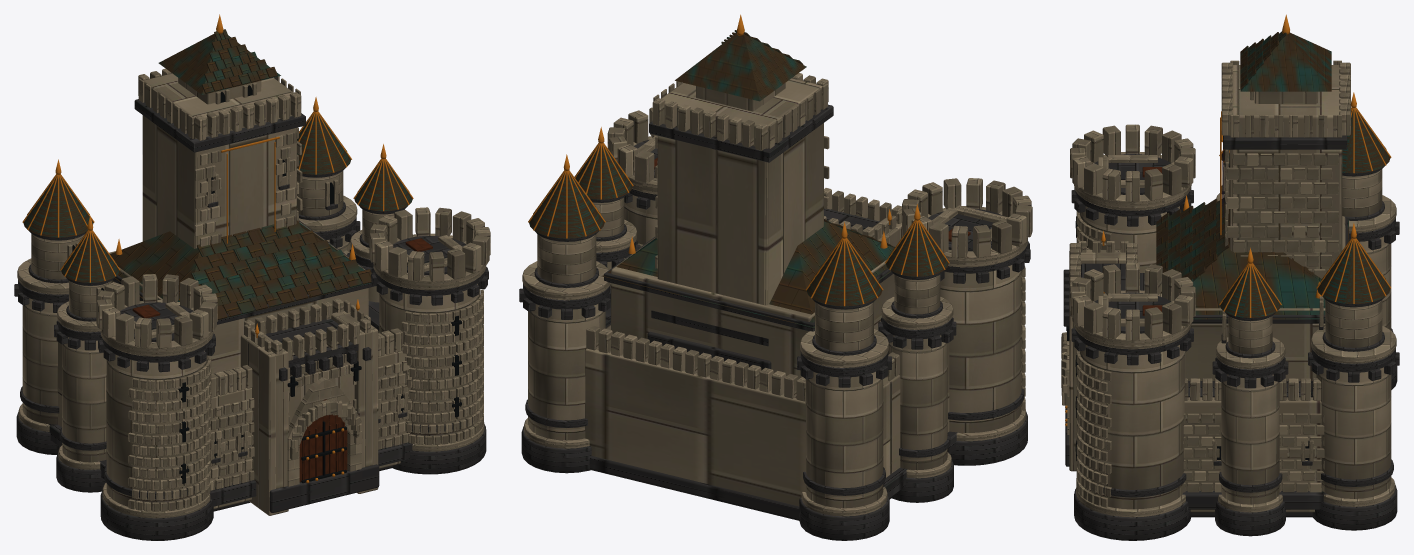
Rendered from hegemony-main-castle-high.glb.
3 views of the same model, side by side, from view 1: azimuth 30°, elevation 25°; view 2: azimuth 150°, elevation 25°; view 3: azimuth 270°, elevation 25° (orthographic). The views are drawn at different scales.
Parts seen in each view (by area): view 1: WK_Hegemony_Hero_Castle_LOD0_High; view 2: WK_Hegemony_Hero_Castle_LOD0_High; view 3: WK_Hegemony_Hero_Castle_LOD0_High.
Part boxes in pixels (left/top/right/bottom): WK_Hegemony_Hero_Castle_LOD0_High: left=14, top=14, right=490, bottom=540; WK_Hegemony_Hero_Castle_LOD0_High: left=519, top=14, right=1032, bottom=540; WK_Hegemony_Hero_Castle_LOD0_High: left=1061, top=14, right=1399, bottom=540.
Size of the model in its own units: 13.34 by 14.06 by 9.96.
Materials: 1 (1 with a texture image).
